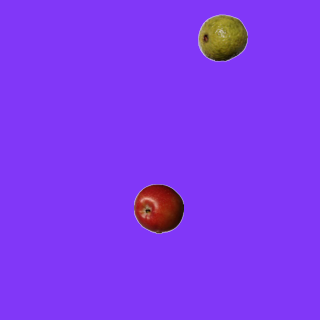Apple Braeburn: (133, 183, 183, 233)
Guava: (197, 12, 247, 62)
